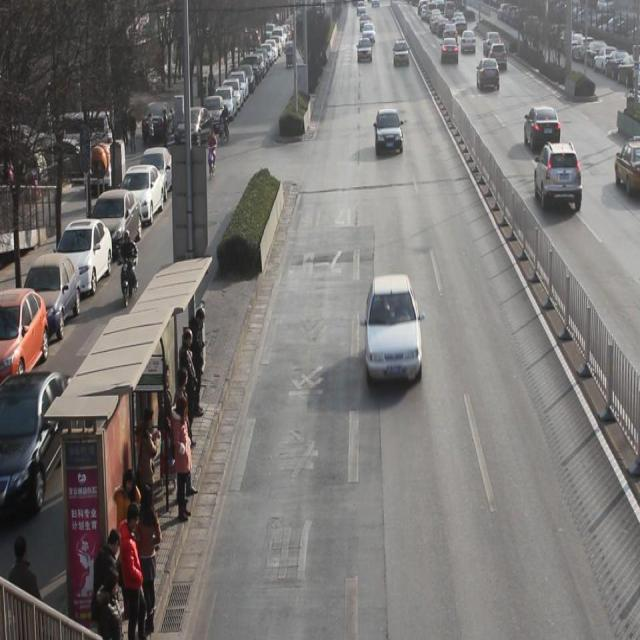car: (1, 371, 78, 516), (365, 286, 423, 400), (534, 141, 583, 215), (524, 103, 562, 152), (374, 107, 403, 157), (615, 136, 640, 192), (476, 57, 501, 92), (488, 41, 507, 70), (393, 39, 410, 69), (441, 37, 459, 65), (484, 29, 501, 56), (357, 38, 372, 64), (461, 30, 476, 54), (363, 21, 375, 41)
